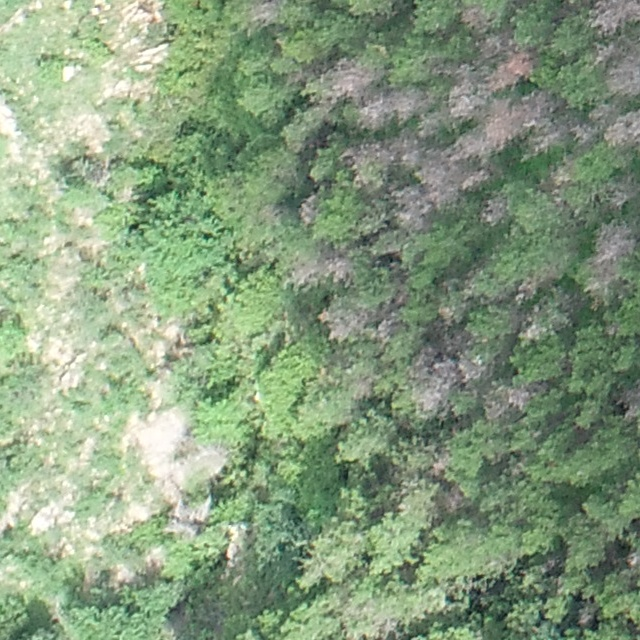unhealthy: (452, 97, 518, 159), (412, 350, 462, 418), (415, 151, 466, 209), (325, 57, 379, 103), (387, 183, 433, 231), (486, 48, 534, 91), (446, 66, 484, 118), (591, 221, 637, 262), (607, 42, 640, 98), (321, 304, 370, 340), (515, 262, 560, 301), (516, 90, 558, 130), (590, 0, 640, 32), (390, 85, 433, 122), (340, 139, 387, 172), (605, 106, 639, 150), (356, 93, 395, 130), (604, 170, 639, 209), (289, 255, 326, 288), (529, 122, 567, 154), (389, 134, 423, 169), (479, 192, 512, 227), (244, 0, 283, 29), (497, 385, 534, 415), (324, 253, 355, 283), (477, 32, 510, 60), (458, 5, 493, 31), (373, 313, 402, 342), (459, 354, 486, 383), (460, 167, 491, 192), (568, 122, 598, 146), (298, 194, 321, 225), (349, 375, 375, 401), (440, 486, 464, 513), (429, 450, 451, 478), (592, 40, 616, 65), (576, 603, 598, 628), (421, 110, 442, 136), (525, 321, 546, 339)
